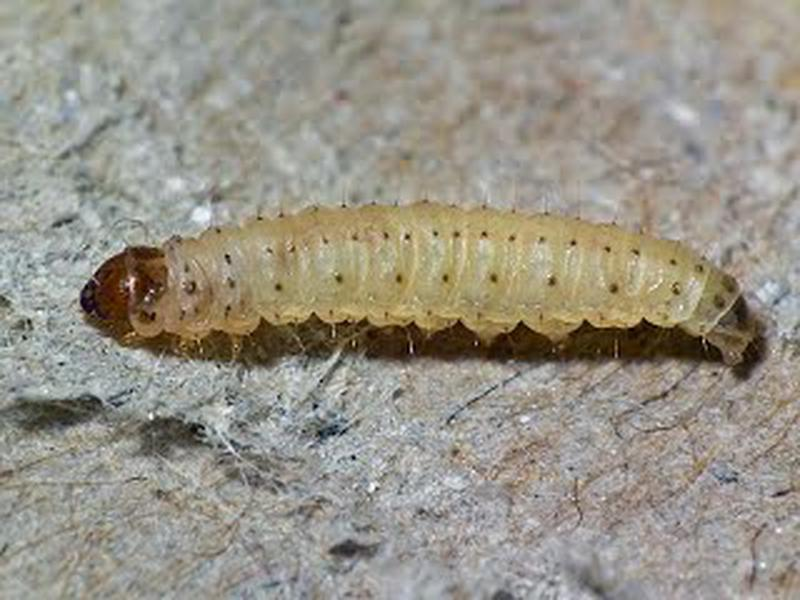Rice_horned_caterpillar: (68, 190, 783, 401)
